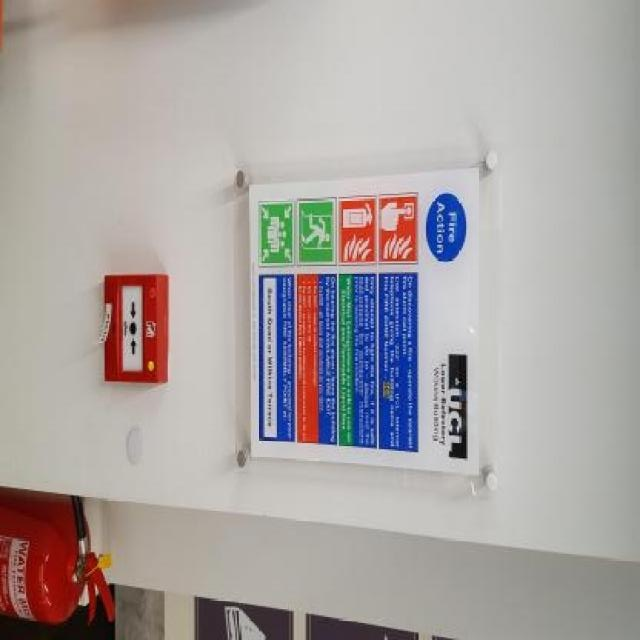fire extinguisher: (0, 487, 114, 624)
